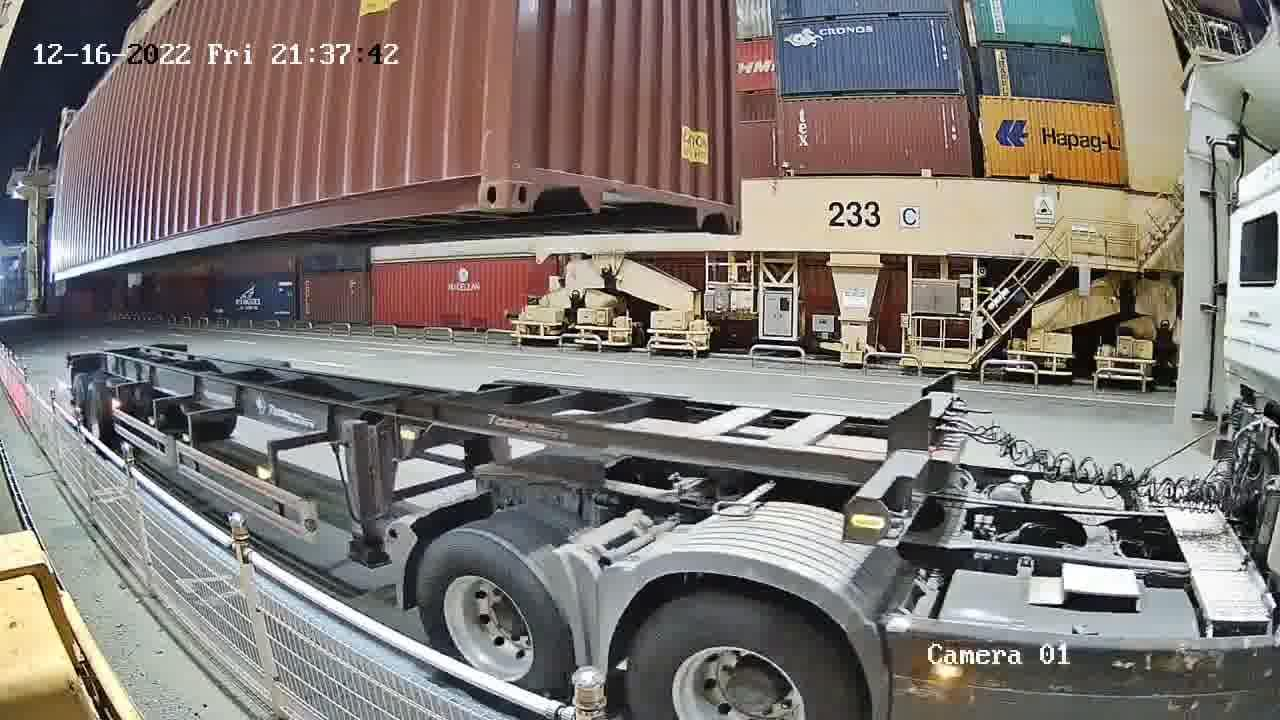Container: (508, 140, 745, 236)
Hole_L: (510, 137, 549, 213)
Hole_R: (453, 140, 510, 214), (717, 180, 743, 233)
Tire: (627, 595, 863, 719), (413, 534, 574, 702)
